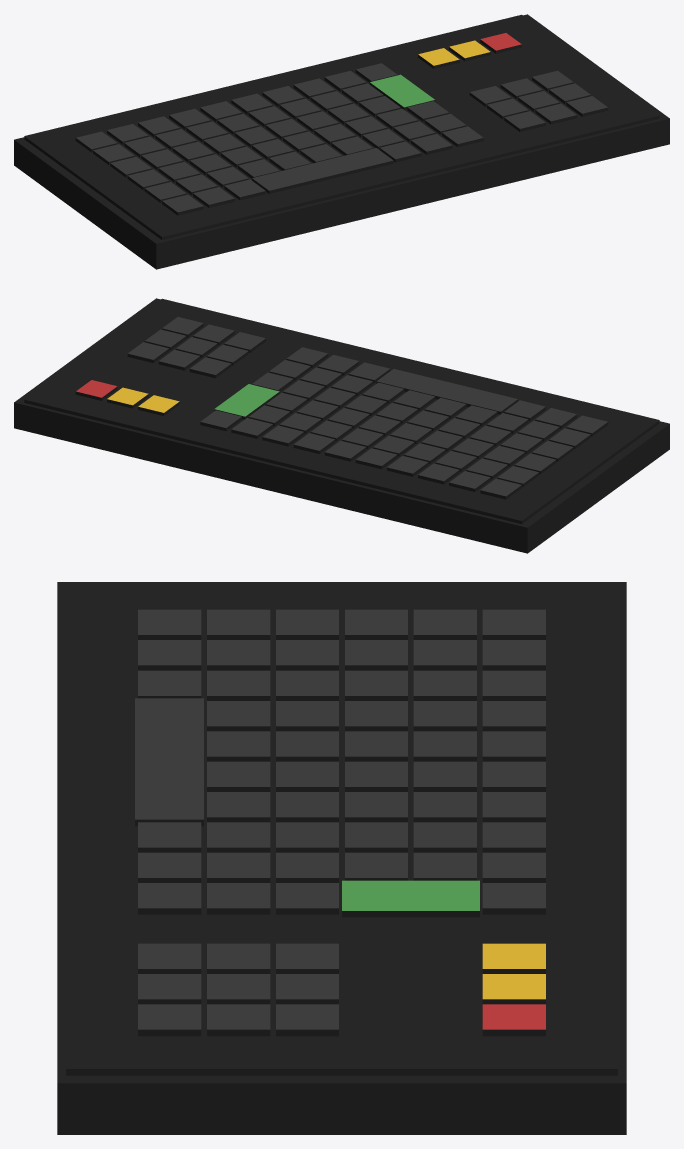
The model's file is Register_Keyboard.fbx.
3 renders of one model, top to bottom at view 1: azimuth 30°, elevation 25°; view 2: azimuth 150°, elevation 25°; view 3: azimuth 270°, elevation 25°, orthographic. The views are drawn at different scales.
Parts seen in each view (by area): view 1: Register_Keyboard; view 2: Register_Keyboard; view 3: Register_Keyboard.
Boxes of the visible parts, <box> form: Register_Keyboard: <box>14,14,669,269</box>; Register_Keyboard: <box>14,298,669,553</box>; Register_Keyboard: <box>57,582,626,1134</box>.
Size of the model in its own units: 50 by 3 by 24.
